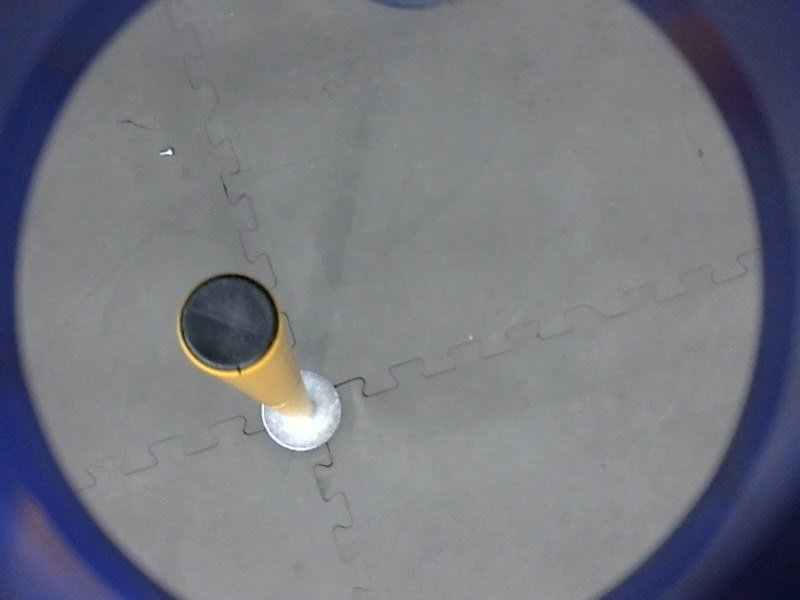tip: (171, 269, 286, 380)
